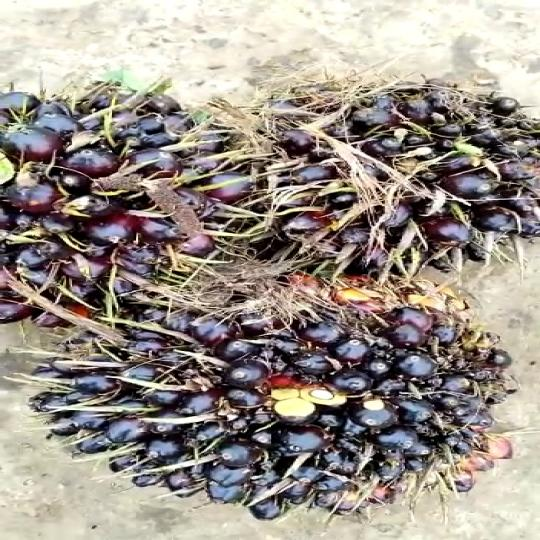mentah: (50, 293, 501, 529), (0, 66, 258, 329), (240, 64, 540, 282)
